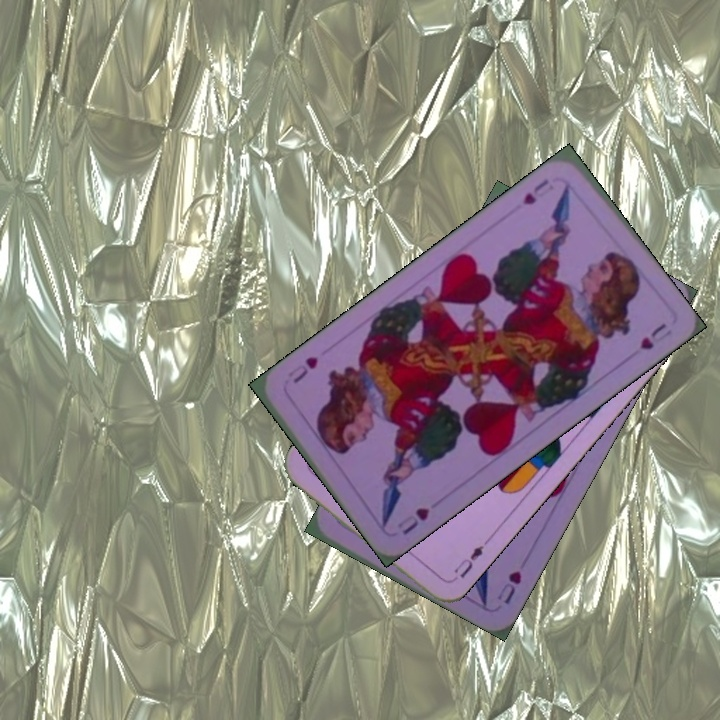EU: (445, 537, 490, 585)
HU: (392, 503, 433, 538), (493, 566, 525, 607), (519, 174, 557, 208)
